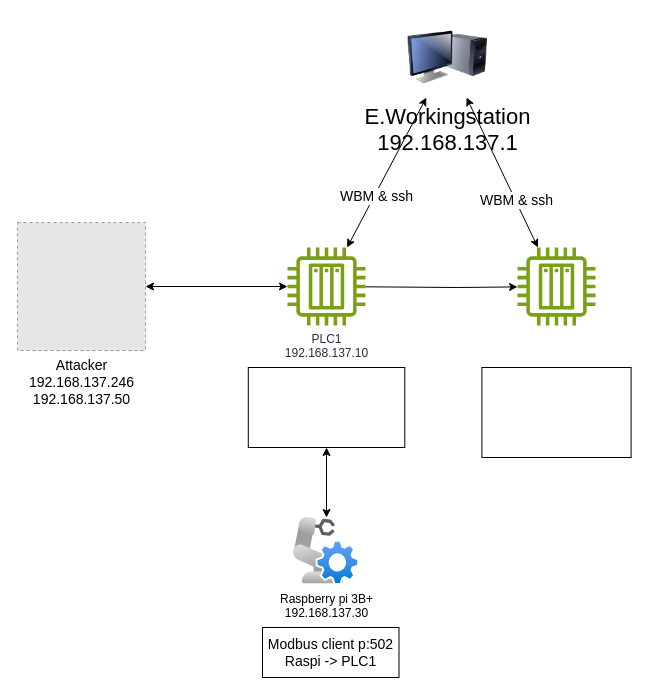
Image size: 649x695. Some labels were removed from this diagram. Grey dashed boxes stand in for pictures. Each missing label, with the box of its shape:
Modbus server p:1000 PLC1 -> PLC2 Modbus client p:502 Raspi -> PLC1: (247, 366, 405, 448)
Modbus server p:2000 PLC2 -> E.Work Modbus client p:1000 PLC1 -> PLC2: (481, 366, 631, 458)
PLC2 192.168.137.12: (517, 247, 595, 325)
